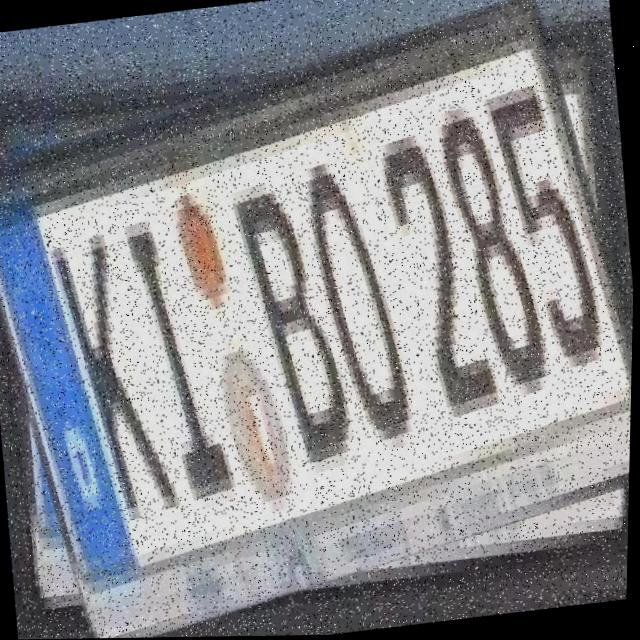LicensePlate: (0, 10, 640, 639)
